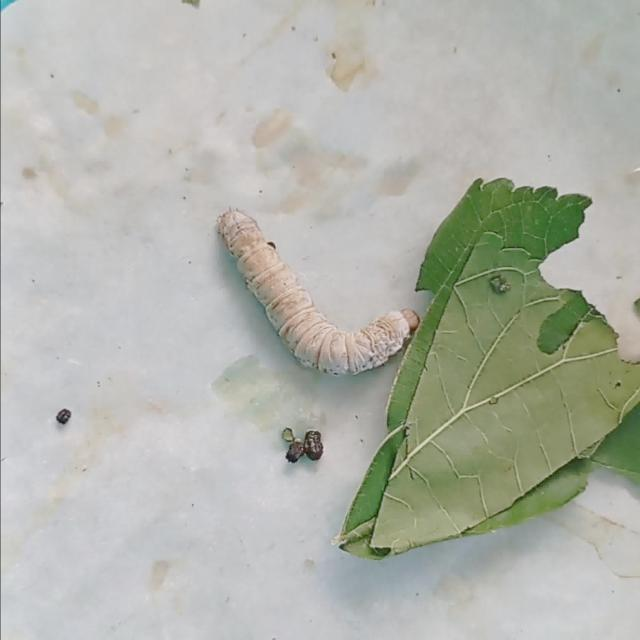Grasserie: (193, 175, 457, 394)
